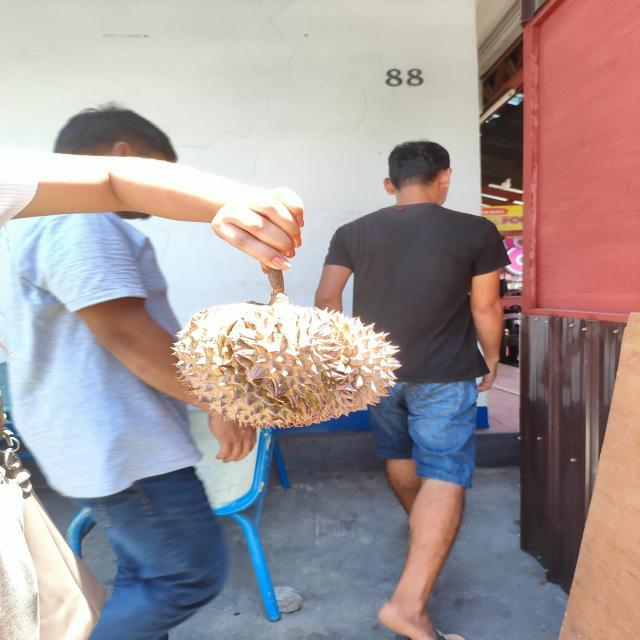mature: (170, 300, 404, 432)
